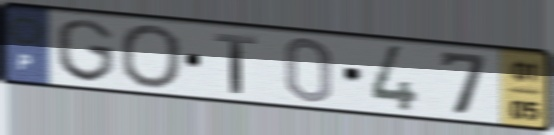0: (281, 35, 335, 105)
4: (367, 43, 423, 115)
7: (436, 48, 494, 118)
G: (53, 17, 118, 85)
O: (117, 22, 185, 91)
T: (211, 30, 260, 96)
